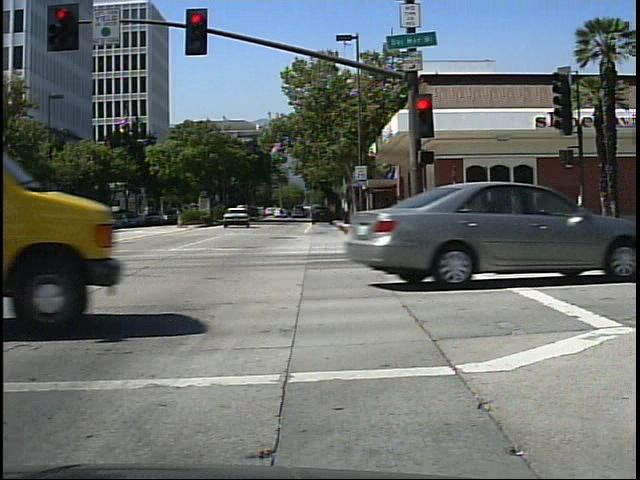person: (277, 204, 289, 222)
